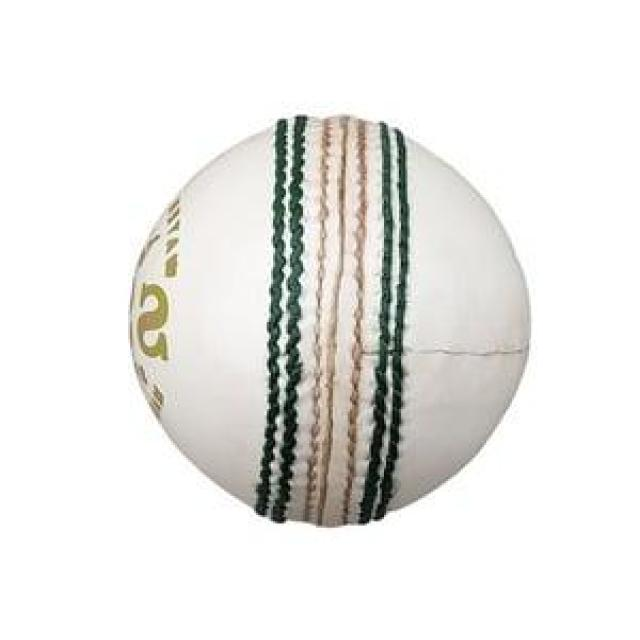ball: (128, 116, 529, 530)
